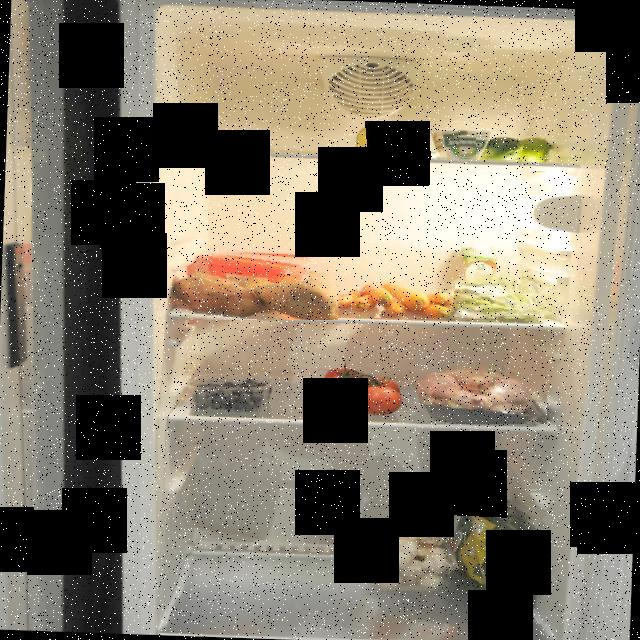blueberries: (192, 378, 279, 412)
butter: (199, 248, 310, 308)
carrot: (332, 276, 455, 318)
cheese: (350, 122, 405, 154)
chicken: (410, 360, 548, 424)
goat_cheese: (424, 128, 492, 160)
green_beans: (452, 266, 557, 319)
heavy_cream: (456, 244, 497, 302)
lime: (476, 136, 558, 162)
mushrooms: (362, 524, 454, 595)
spinach: (445, 478, 547, 624)
sweet_potato: (176, 269, 338, 320)
tomato: (301, 355, 405, 419)
